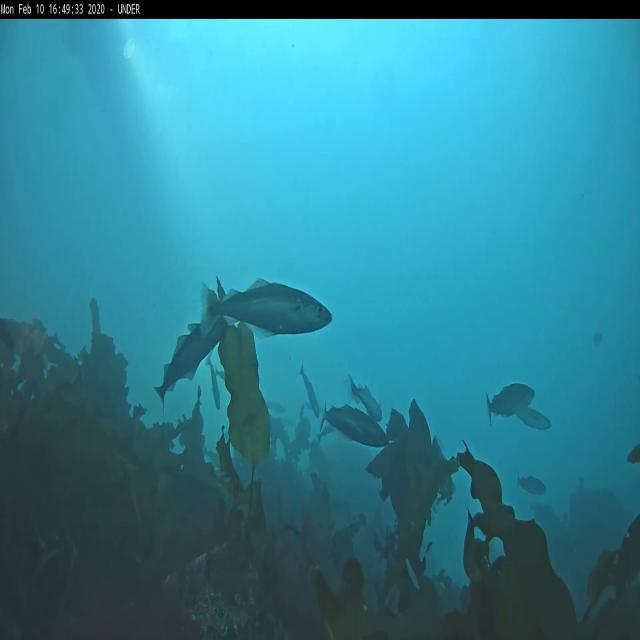fish: (154, 310, 228, 418), (205, 280, 332, 338), (321, 400, 387, 445), (484, 383, 534, 425), (349, 374, 383, 420), (298, 362, 320, 417), (511, 402, 552, 429), (203, 350, 221, 411), (516, 474, 547, 494), (215, 367, 228, 382)
